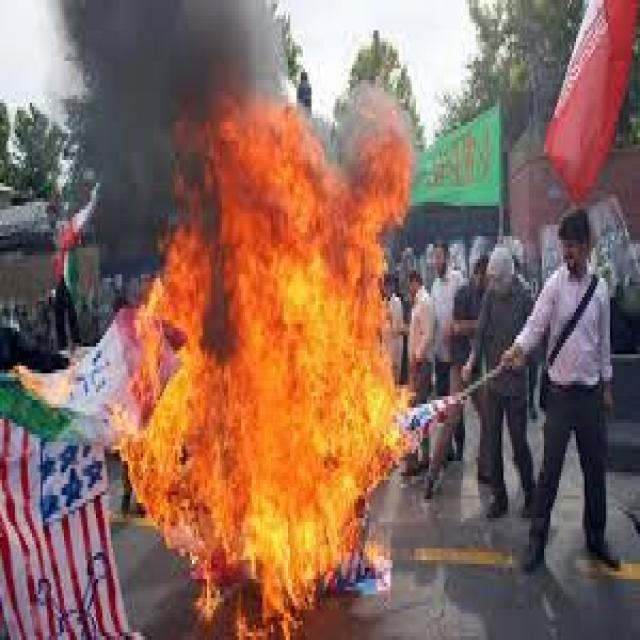Fire: (172, 70, 412, 640), (114, 227, 174, 537), (14, 357, 72, 403)
Smoke: (64, 0, 172, 224), (172, 0, 276, 69)
